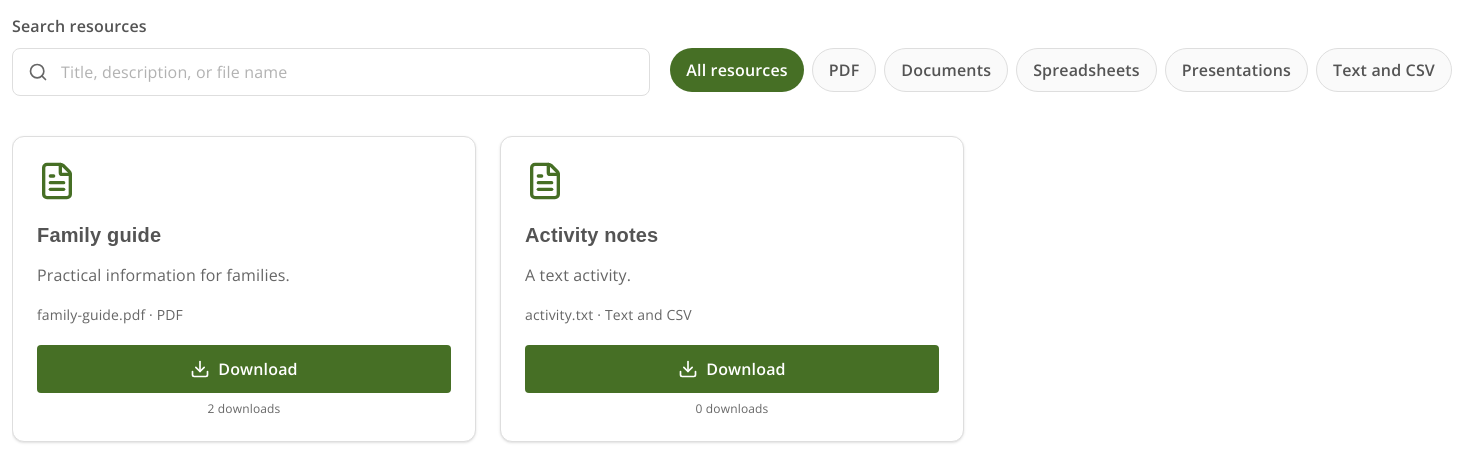
Test: ResourceExplorer › filters locally without contacting the download endpoint
What coordinates should you click on to do the following:
click the button "PDF"
I would click on:
 (844, 70)
Its box is [812, 48, 876, 92].
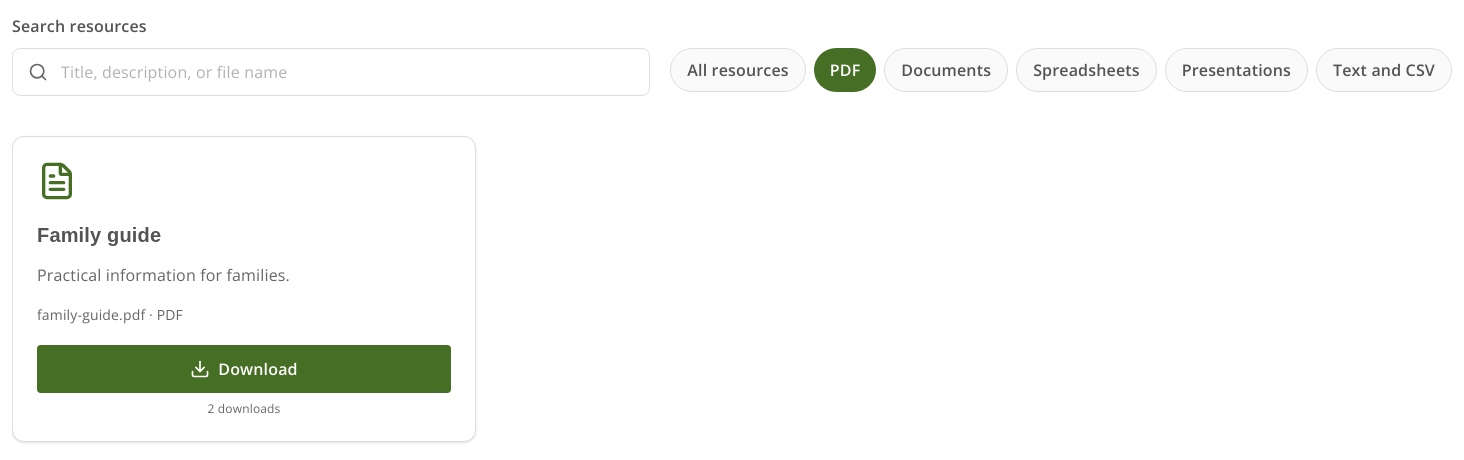
Expected: the heading "Family guide" is shown, [37, 224, 161, 246]
Expected: the heading "Activity notes" is gone
